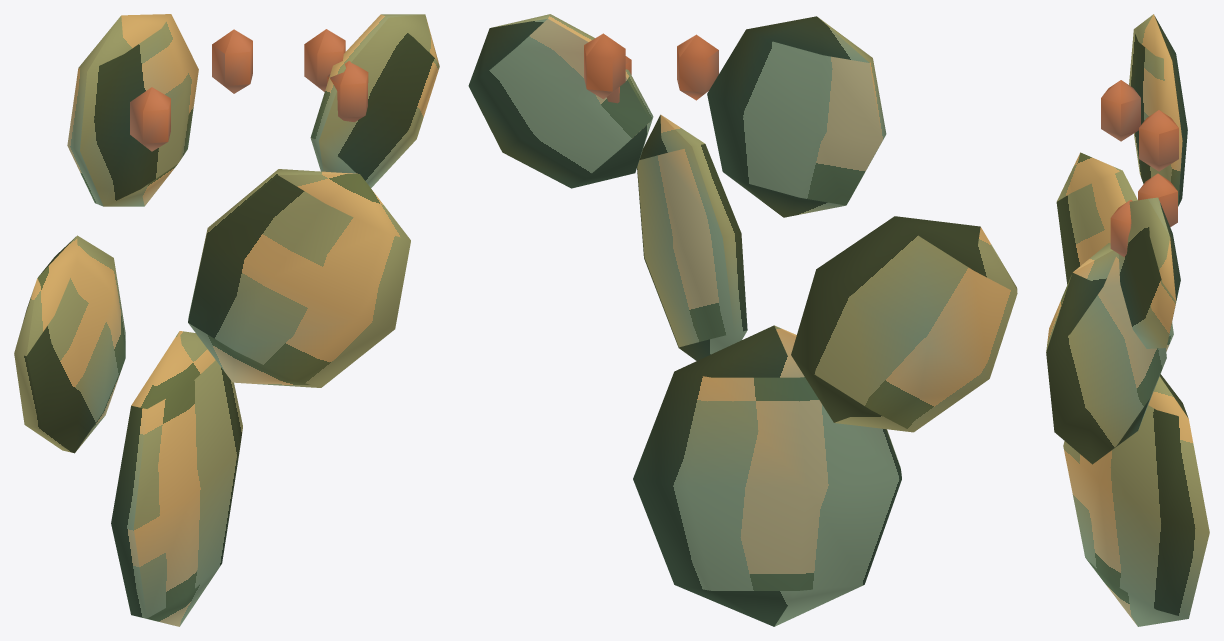
The model's file is wprop.cactus__prickly.glb.
The picture shows the model from 3 angles, left to right: view 1: azimuth 30°, elevation 25°; view 2: azimuth 150°, elevation 25°; view 3: azimuth 270°, elevation 25°; orthographic projection. The views are drawn at different scales.
Parts seen in each view (by area): view 1: kit_pads, kit_fruit; view 2: kit_pads, kit_fruit; view 3: kit_pads, kit_fruit.
Part boxes in pixels (x1,y1,x2,y2): kit_pads: (14,14,439,626); kit_fruit: (130,29,368,151); kit_pads: (468,14,1017,626); kit_fruit: (584,33,718,103); kit_pads: (1046,14,1209,626); kit_fruit: (1101,80,1178,256).
Bounding box in the file's own units: 1.09 × 1.34 × 0.336.
Materials: 2 (2 with a texture image).
